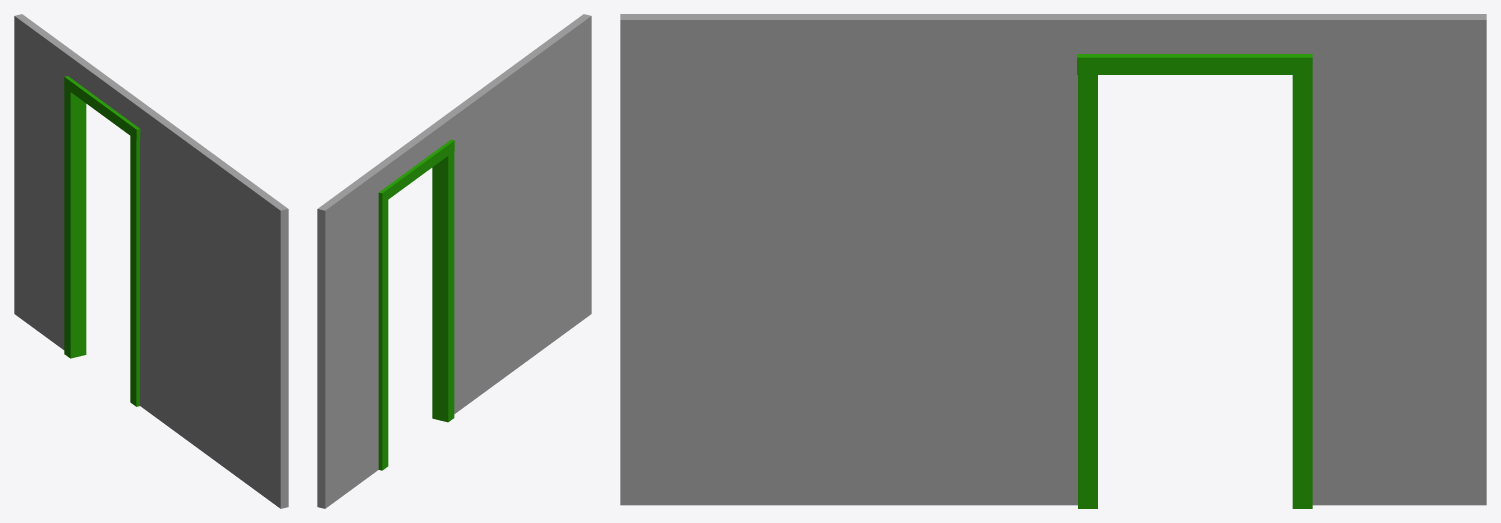
File: doorWallNotAnimated.fbx
The picture shows the model from 3 angles, left to right: view 1: azimuth 30°, elevation 25°; view 2: azimuth 150°, elevation 25°; view 3: azimuth 270°, elevation 25°; orthographic projection. The views are drawn at different scales.
Visible parts, largest first — view 1: group4_pasted__pCube14; view 2: group4_pasted__pCube14; view 3: group4_pasted__pCube14.
Boxes of the visible parts, x1=… form: group4_pasted__pCube14: x1=14, y1=14, x2=288, y2=508; group4_pasted__pCube14: x1=317, y1=14, x2=591, y2=508; group4_pasted__pCube14: x1=620, y1=14, x2=1486, y2=508.
Size of the model in its own units: 0.7091 by 12.76 by 20.65.
